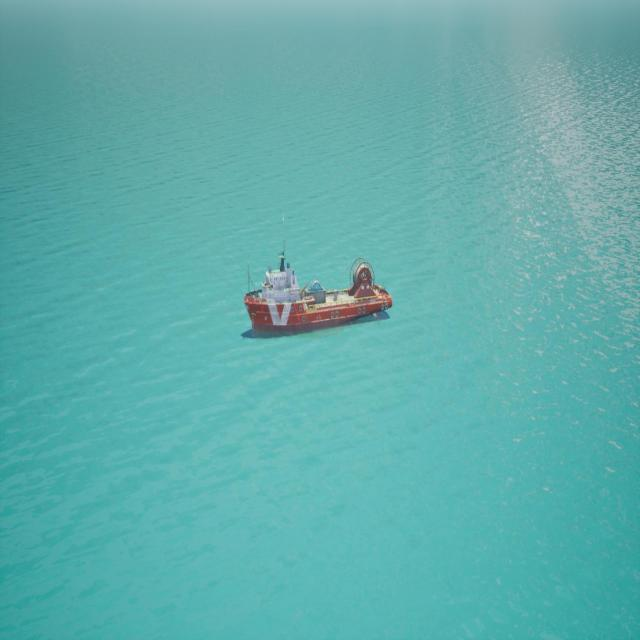tug boat: (243, 242, 392, 340)
